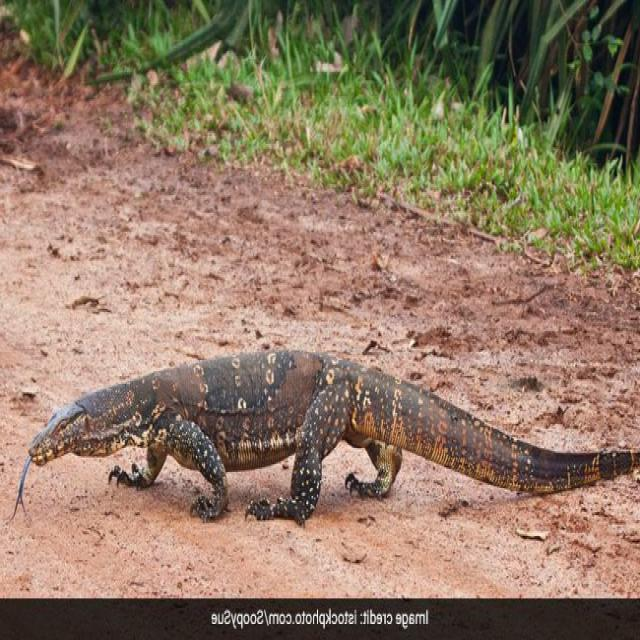lizard: (14, 350, 640, 523)
